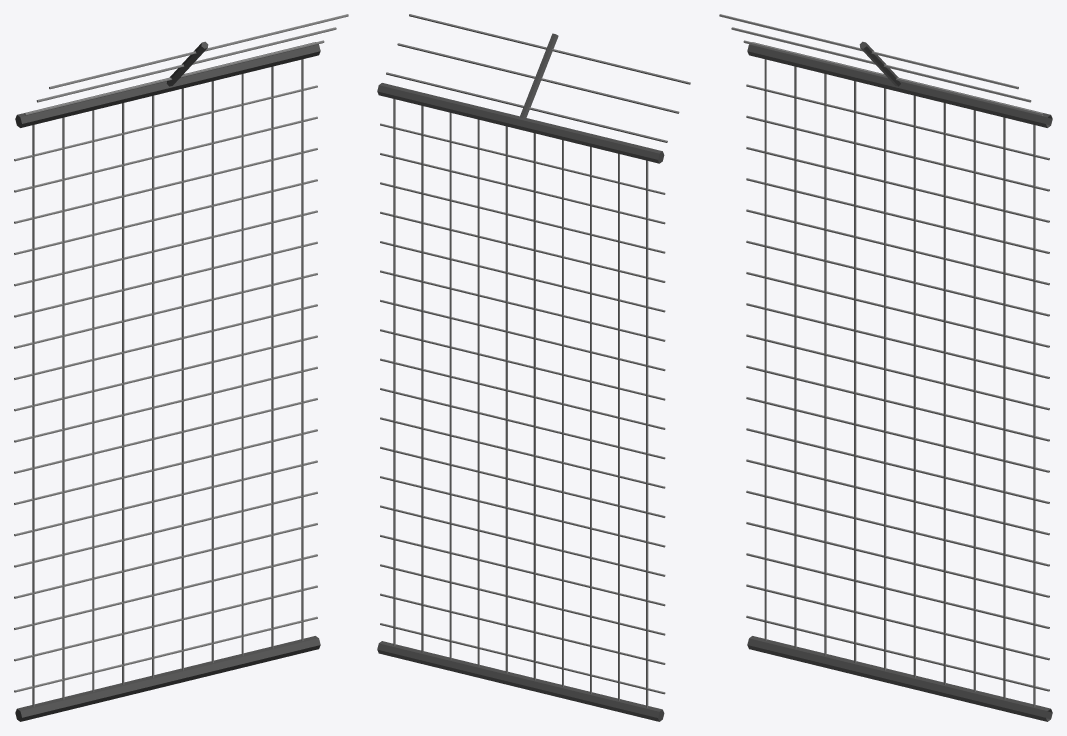
Rendered from Fences_03.fbx.
3 renders of one model, left to right at view 1: azimuth 30°, elevation 25°; view 2: azimuth 150°, elevation 25°; view 3: azimuth 330°, elevation 25°, orthographic. The views are drawn at different scales.
Visible parts, largest first — view 1: Fence_03; view 2: Fence_03; view 3: Fence_03.
Part boxes in pixels (x1,y1,x2,y2): Fence_03: (14, 14, 348, 721); Fence_03: (377, 14, 690, 721); Fence_03: (719, 14, 1052, 721).
Size of the model in its own units: 101 by 214 by 24.1.
1 material, 1 textured.
